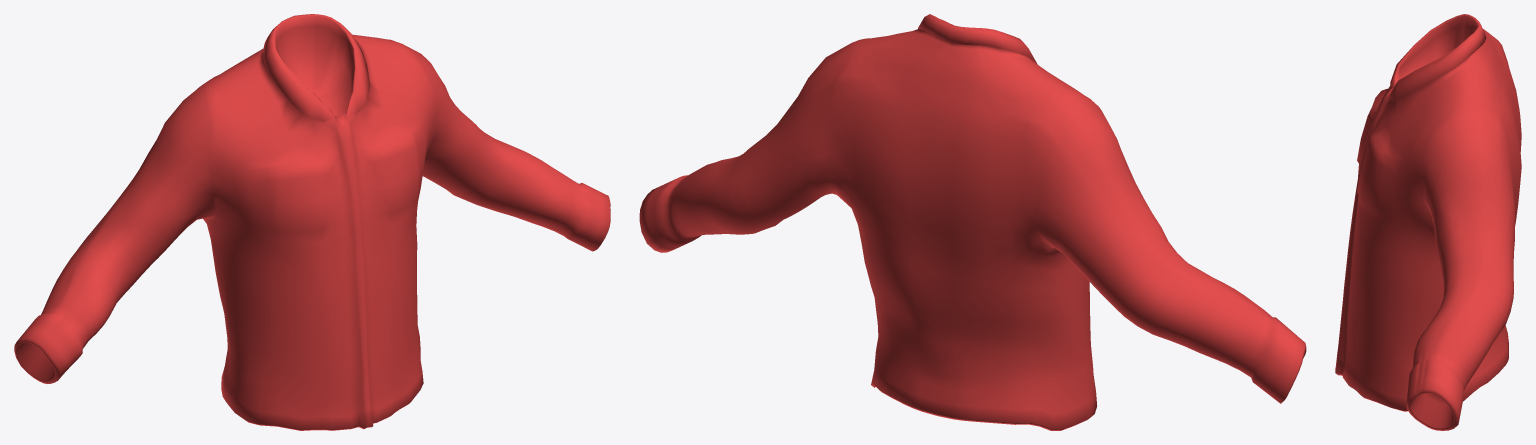
The model's file is shirt.glb.
The picture shows the model from 3 angles, left to right: view 1: azimuth 30°, elevation 25°; view 2: azimuth 150°, elevation 25°; view 3: azimuth 270°, elevation 25°; orthographic projection. The views are drawn at different scales.
Visible parts, largest first — view 1: Object_18_n3d; view 2: Object_18_n3d; view 3: Object_18_n3d.
Boxes of the visible parts, x1,y1,x2,y2 form: Object_18_n3d: (14, 14, 610, 430); Object_18_n3d: (639, 14, 1306, 430); Object_18_n3d: (1335, 14, 1521, 430).
Bounding box in the file's own units: 61.88 × 36.11 × 17.5.
